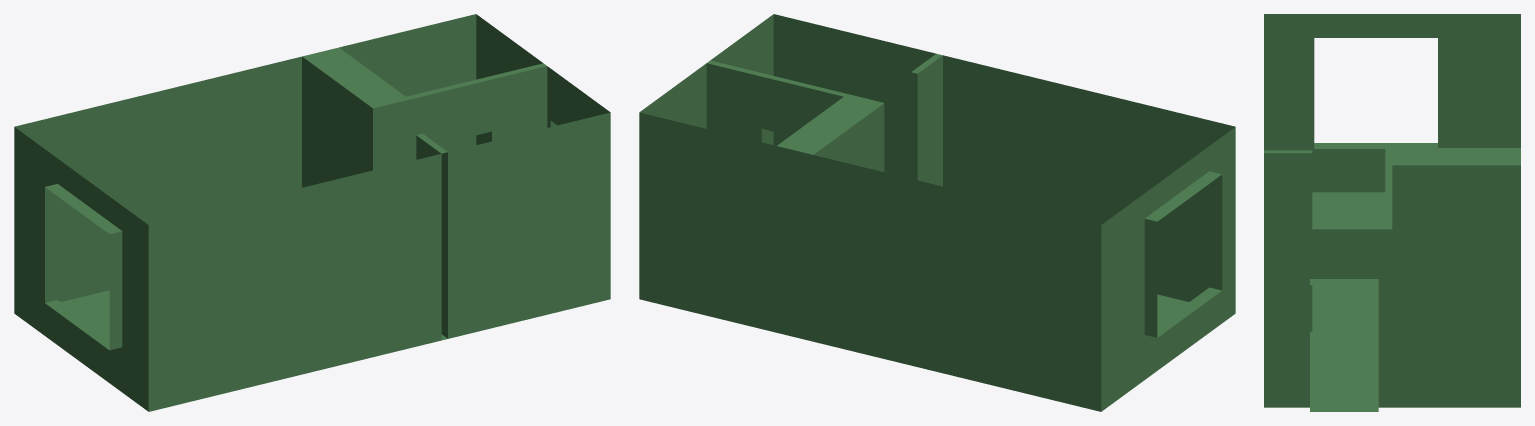
The model's file is Rooms_A_2_2_15.FBX.
3 renders of one model, left to right at view 1: azimuth 30°, elevation 25°; view 2: azimuth 150°, elevation 25°; view 3: azimuth 270°, elevation 25°, orthographic. The views are drawn at different scales.
Parts seen in each view (by area): view 1: Rooms_A_2_2_15; view 2: Rooms_A_2_2_15; view 3: Rooms_A_2_2_15.
Part boxes in pixels (box(x1,y1,x2,y2)): Rooms_A_2_2_15: box(14, 14, 610, 411); Rooms_A_2_2_15: box(639, 14, 1235, 411); Rooms_A_2_2_15: box(1264, 14, 1520, 411).
Bounding box in the file's own units: 7.65 × 2.8 × 3.65.
